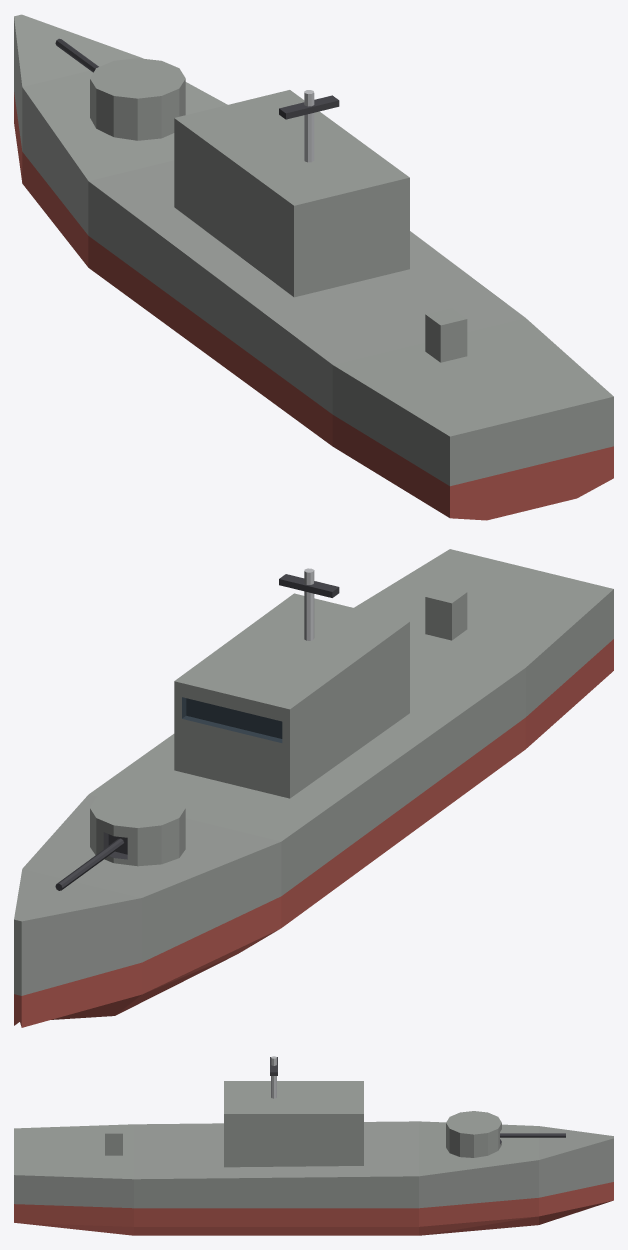
Rendered from gunboat.glb.
The picture shows the model from 3 angles, top to bottom: view 1: azimuth 30°, elevation 25°; view 2: azimuth 150°, elevation 25°; view 3: azimuth 270°, elevation 25°; orthographic projection. The views are drawn at different scales.
Parts seen in each view (by area): view 1: gunboat; view 2: gunboat; view 3: gunboat.
Boxes of the visible parts, <box> form: gunboat: <box>14,14,613,520</box>; gunboat: <box>14,549,613,1027</box>; gunboat: <box>14,1056,613,1235</box>.
Bounding box in the file's own units: 6.5 × 9 × 30.
